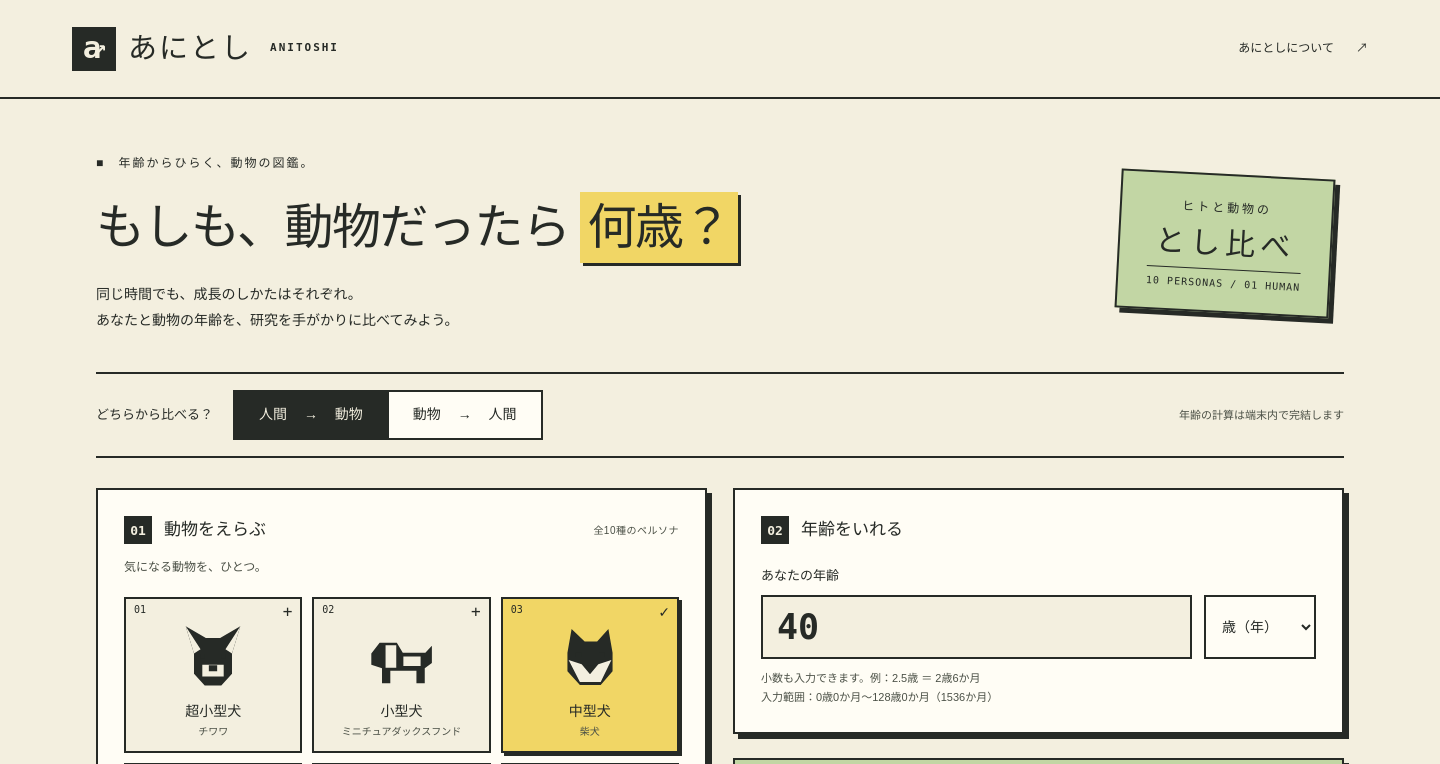
Test case: conversion interface › does not coerce blanks to zero and rejects invalid values
Clear the field labelled "あなたの年齢": coordinates (976, 627) x1=761 y1=595 x2=1192 y2=659
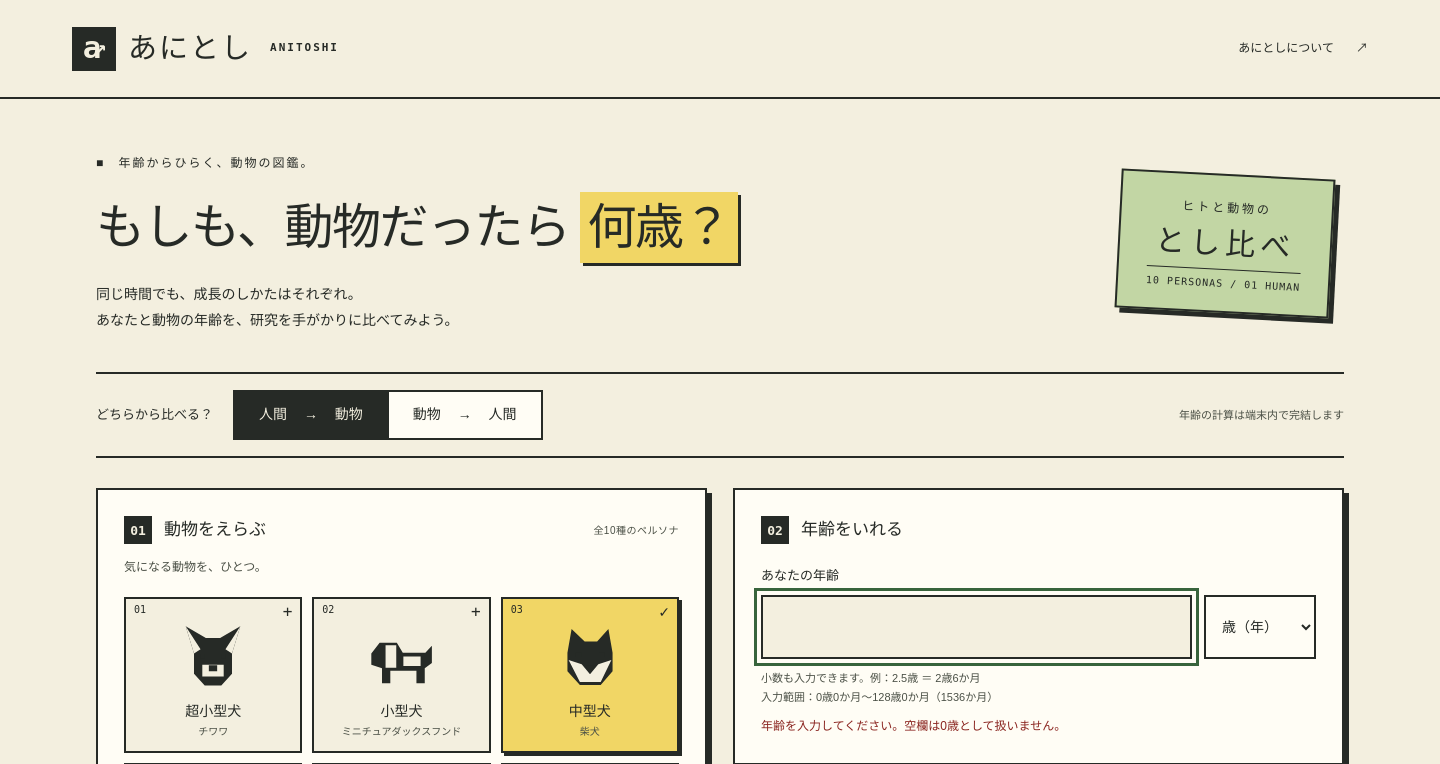
Now the message shows "空欄は0歳として扱いません", box x1=761 y1=719 x2=1066 y2=733
In the field labelled "あなたの年齢": coordinates (976, 627) x1=761 y1=595 x2=1192 y2=659, type "-1"
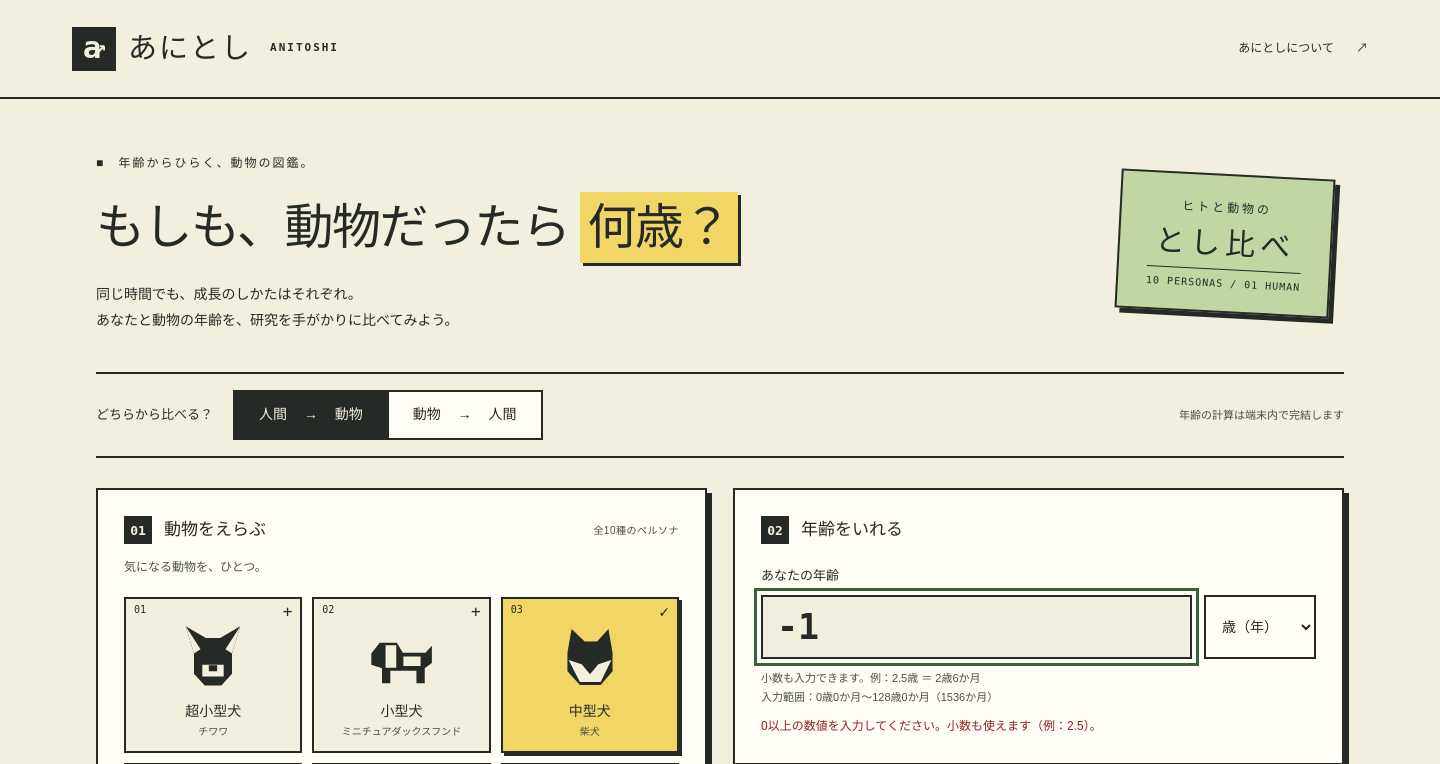
Now the message shows "0以上", box x1=761 y1=719 x2=1102 y2=733
